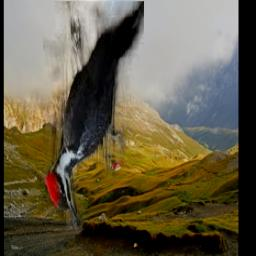Woodpecker: (43, 1, 144, 230)
